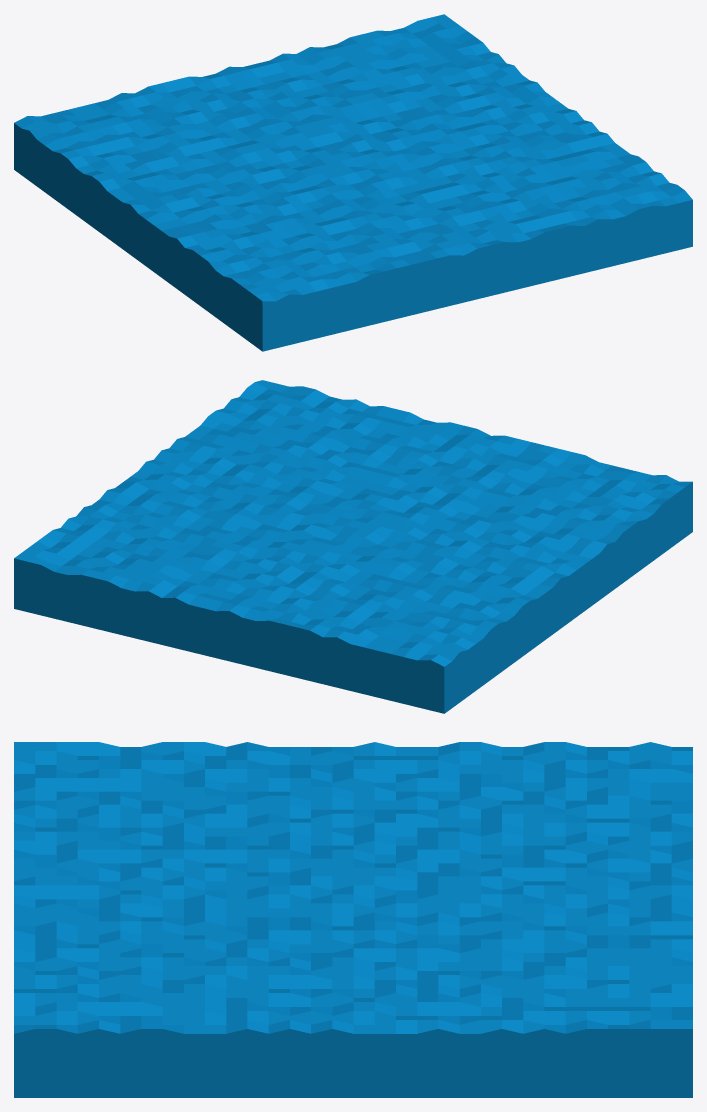
The model's file is water.fbx.
3 renders of one model, top to bottom at view 1: azimuth 30°, elevation 25°; view 2: azimuth 150°, elevation 25°; view 3: azimuth 270°, elevation 25°, orthographic. The views are drawn at different scales.
Visible parts, largest first — view 1: Plane; view 2: Plane; view 3: Plane.
Part boxes in pixels (x1=…): Plane: x1=14, y1=14, x2=692, y2=351; Plane: x1=14, y1=380, x2=692, y2=713; Plane: x1=14, y1=742, x2=692, y2=1097.
Size of the model in its own units: 2000 by 224 by 2000.
